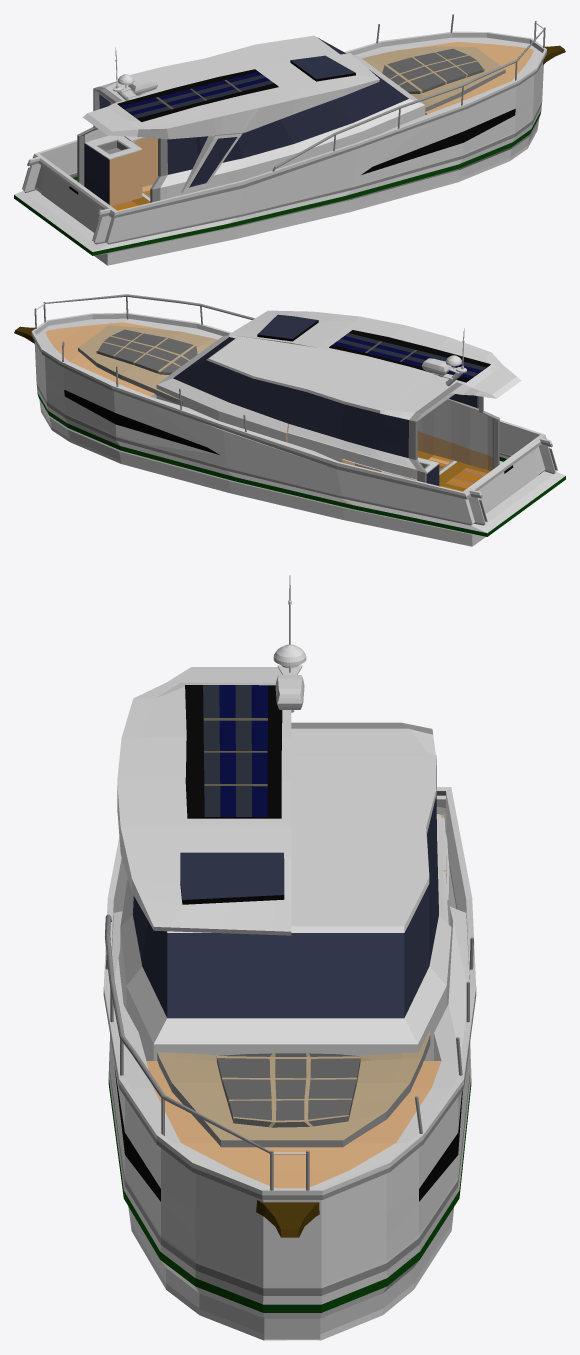
The model's file is Boat.glb.
3 renders of one model, top to bottom at view 1: azimuth 30°, elevation 25°; view 2: azimuth 150°, elevation 25°; view 3: azimuth 270°, elevation 25°, orthographic. The views are drawn at different scales.
Parts seen in each view (by area): view 1: bat du bateau, vitre, toit, capo, barre haut, antaine; view 2: bat du bateau, vitre, toit, capo, antaine, barre haut; view 3: bat du bateau, vitre, toit, capo, antaine, barre haut, avant.
Part boxes in pixels (box(x1,y1,x2,y2)): bat du bateau: box(14, 31, 546, 265); vitre: box(77, 35, 425, 210); toit: box(83, 53, 379, 193); capo: box(362, 46, 505, 111); barre haut: box(272, 28, 544, 171); antaine: box(113, 47, 158, 100); bat du bateau: box(31, 312, 565, 546); vitre: box(156, 335, 499, 491); toit: box(229, 310, 521, 400); capo: box(78, 325, 217, 405); antaine: box(422, 328, 466, 386); barre haut: box(45, 294, 254, 319); bat du bateau: box(103, 787, 476, 1340); vitre: box(120, 722, 451, 1060); toit: box(117, 667, 291, 935); capo: box(157, 1030, 430, 1147); antaine: box(273, 575, 306, 712); barre haut: box(105, 914, 269, 1153); avant: box(256, 1200, 319, 1237).
Size of the model in its own units: 12.65 by 4.26 by 4.
